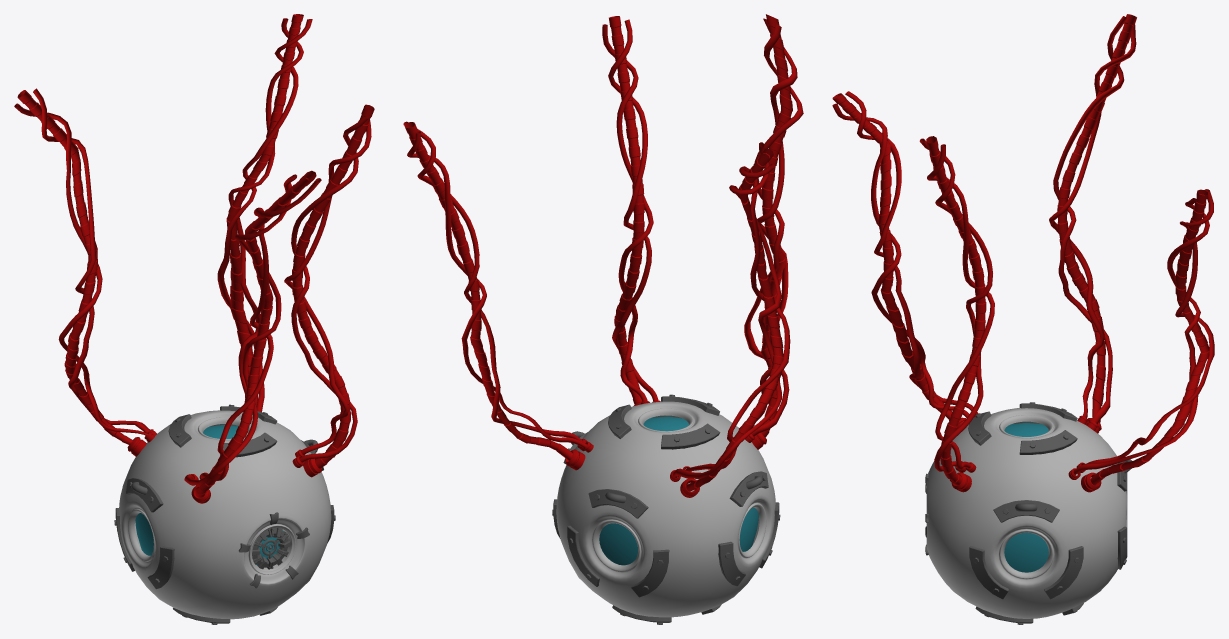
File: reactorCore.fbx
The picture shows the model from 3 angles, left to right: view 1: azimuth 30°, elevation 25°; view 2: azimuth 150°, elevation 25°; view 3: azimuth 270°, elevation 25°; orthographic projection. The views are drawn at different scales.
Visible parts, largest first — view 1: orbReactorShell, reactorTubeLg01, reactorTubeLg01B, reactorTubeLg02C, reactorTubeLg03D, reactorTubeSm02, reactorTubeSm01, reactorTubeSm04C, reactorTubeSm02B, reactorTubeSm03C, reactorTubeSm05D, reactorTubeSm06D (+5 smaller); view 2: orbReactorShell, reactorTubeLg01, reactorTubeLg01B, reactorTubeLg02C, reactorTubeLg03D, insideSphere, reactorSidePortDetail2, reactorTubeSm06D, reactorTubeSm02, reactorTubeSm01, reactorTubeSm04C, reactorTubeSm01B (+5 smaller); view 3: orbReactorShell, reactorTubeLg02C, reactorTubeLg01, reactorTubeLg03D, reactorTubeLg01B, reactorSidePortDetail, reactorTubeSm04C, reactorTubeSm03C, reactorTubeSm01, reactorTubeSm06D, insideSphere, reactorTubeSm02 (+5 smaller).
Part boxes in pixels (x1,y1,x2,y2): orbReactorShell: (119, 410, 331, 619); reactorTubeLg01: (292, 104, 374, 468); reactorTubeLg01B: (226, 14, 303, 406); reactorTubeLg02C: (17, 90, 133, 444); reactorTubeLg03D: (195, 170, 316, 497); reactorTubeSm02: (291, 116, 368, 462); reactorTubeSm01: (284, 120, 371, 454); reactorTubeSm04C: (33, 88, 149, 432); reactorTubeSm02B: (217, 19, 312, 411); reactorTubeSm03C: (14, 103, 147, 435); reactorTubeSm05D: (201, 178, 321, 480); reactorTubeSm06D: (184, 174, 296, 485); orbReactorShell: (556, 401, 775, 617); reactorTubeLg01: (609, 16, 644, 404); reactorTubeLg01B: (404, 122, 572, 460); reactorTubeLg02C: (686, 148, 783, 491); reactorTubeLg03D: (761, 14, 792, 437); insideSphere: (599, 416, 758, 565); reactorSidePortDetail2: (567, 489, 669, 597); reactorTubeSm06D: (744, 24, 803, 436); reactorTubeSm02: (608, 19, 658, 400); reactorTubeSm01: (602, 24, 653, 401); reactorTubeSm04C: (673, 142, 781, 478); reactorTubeSm01B: (407, 131, 586, 447); orbReactorShell: (926, 408, 1126, 618); reactorTubeLg02C: (1057, 14, 1136, 423); reactorTubeLg01: (926, 136, 986, 485); reactorTubeLg03D: (832, 93, 952, 420); reactorTubeLg01B: (1090, 189, 1209, 485); reactorSidePortDetail: (969, 500, 1083, 599); reactorTubeSm04C: (1053, 16, 1127, 424); reactorTubeSm03C: (1049, 25, 1136, 418); reactorTubeSm01: (927, 144, 994, 469); reactorTubeSm06D: (845, 91, 977, 413); insideSphere: (1004, 423, 1048, 572); reactorTubeSm02: (919, 138, 992, 471).
Bounding box in the file's own units: 2301 × 3453 × 2301.
